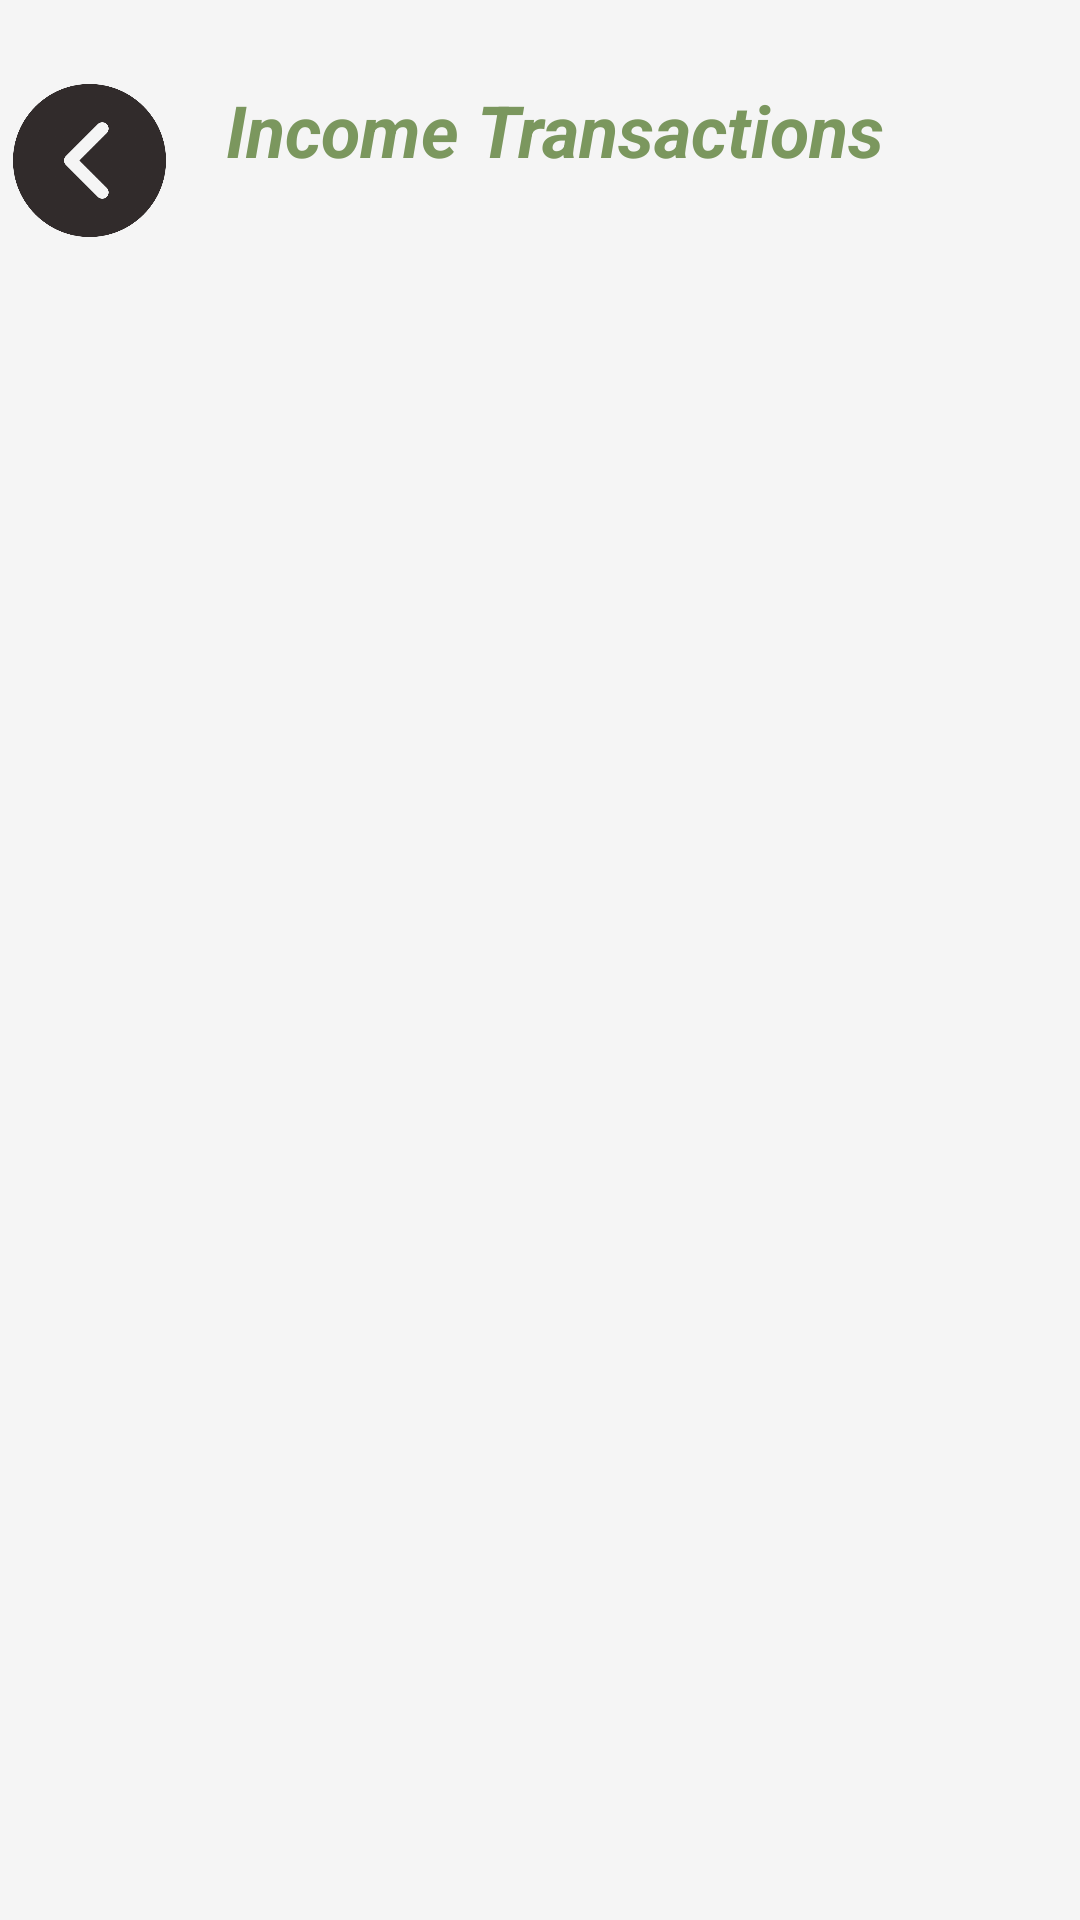

Icon bounding boxes for this 1080 × 1920 phone screenshot, format (x1, y1, x2, y2):
previous: (13, 84, 166, 237)
